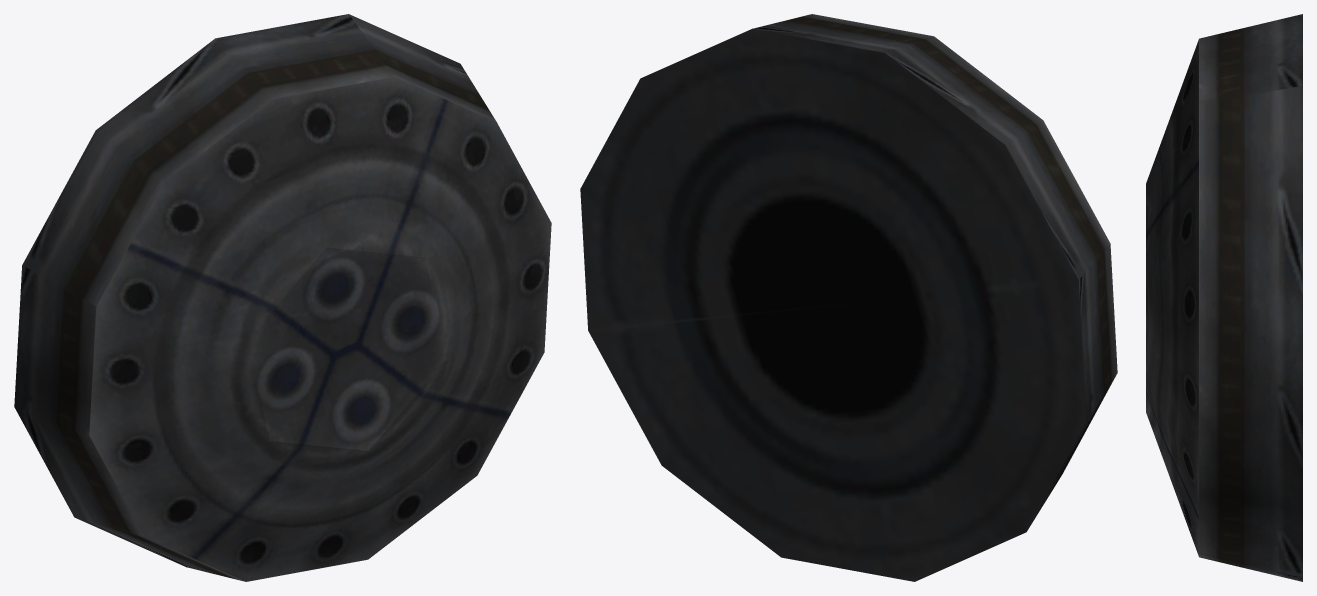
The model's file is t6_wpn_bouncing_betty_world_LOD2.obj.
The picture shows the model from 3 angles, left to right: view 1: azimuth 30°, elevation 25°; view 2: azimuth 150°, elevation 25°; view 3: azimuth 270°, elevation 25°; orthographic projection. The views are drawn at different scales.
Parts seen in each view (by area): view 1: mtl_t6_wpn_bouncing_betty; view 2: mtl_t6_wpn_bouncing_betty; view 3: mtl_t6_wpn_bouncing_betty.
Boxes of the visible parts, x1,y1,x2,y2 form: mtl_t6_wpn_bouncing_betty: [14, 14, 551, 581]; mtl_t6_wpn_bouncing_betty: [580, 14, 1117, 581]; mtl_t6_wpn_bouncing_betty: [1146, 14, 1302, 581].
Size of the model in its own units: 29.85 by 29.85 by 8.18.
